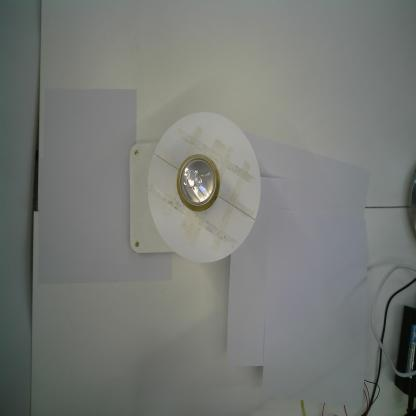Alcohol: (176, 154, 221, 212)
